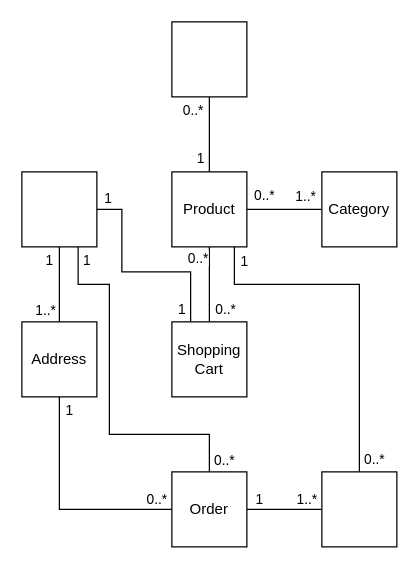
Image size: 419x569. Some labels were removed from this diagram. The shapes that lost their labels are listed below. From the top down, each one's box as (x1, y1, x2, y2) in pixels, then its label:
(171, 21, 247, 97): Review
(21, 171, 97, 247): User
(321, 471, 397, 547): OrderItem
